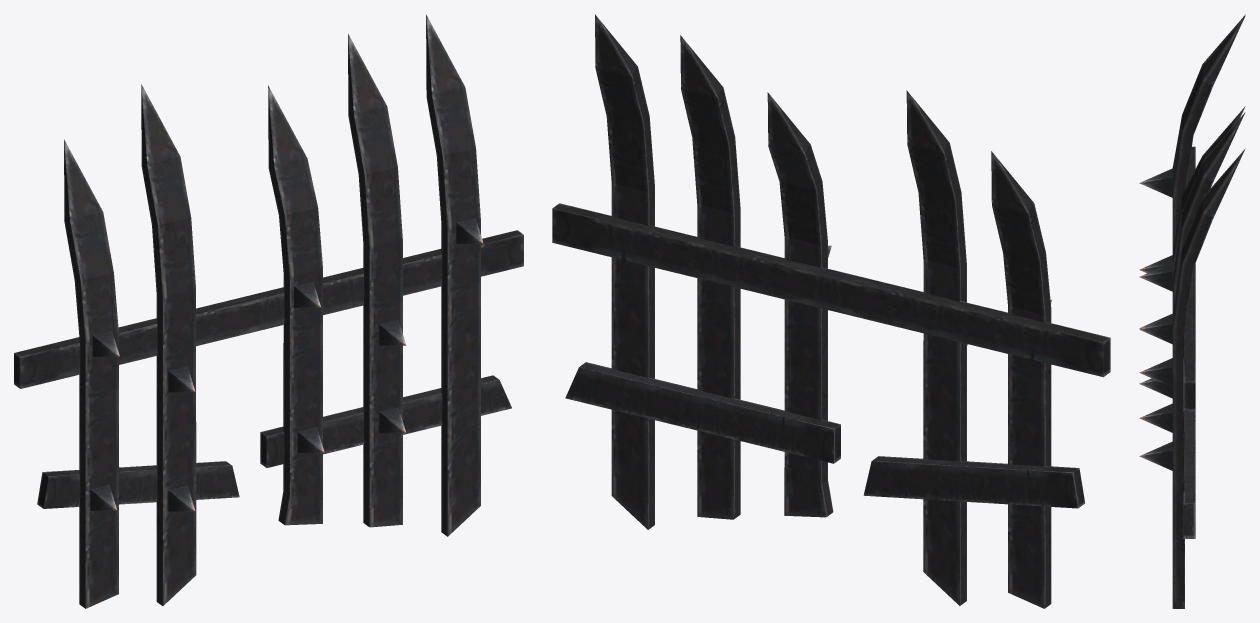
File: 10504_IronRail02.FBX
The picture shows the model from 3 angles, left to right: view 1: azimuth 30°, elevation 25°; view 2: azimuth 150°, elevation 25°; view 3: azimuth 270°, elevation 25°; orthographic projection. The views are drawn at different scales.
Parts seen in each view (by area): view 1: Object001; view 2: Object001; view 3: Object001.
Part boxes in pixels (x1,y1,x2,y2): Object001: (14, 14, 523, 608); Object001: (552, 14, 1110, 608); Object001: (1139, 14, 1245, 608).
Size of the model in its own units: 489 by 456 by 94.1.
